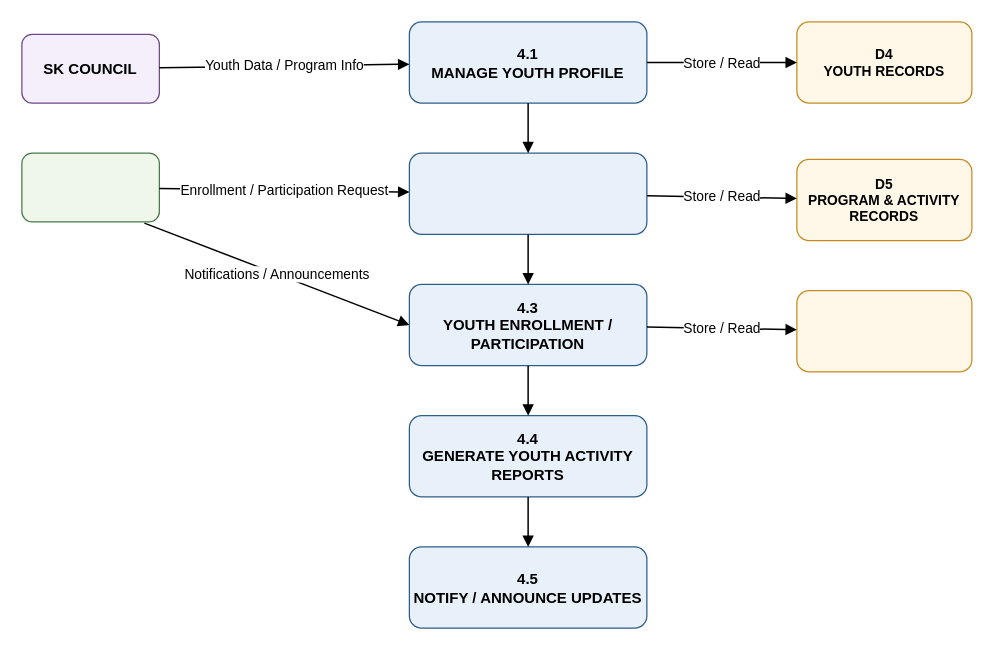
Image size: 994x650. Some labels were removed from this diagram. The centre of each missing label's shape, as x and y in pixels:
"4.2 MANAGE SK PROGRAMS & ACTIVITIES" belongs at point (527, 193).
"D7 ACTIVITY LOGS & REPORTS" belongs at point (884, 330).
"RESIDENT (YOUTH)" belongs at point (90, 187).
